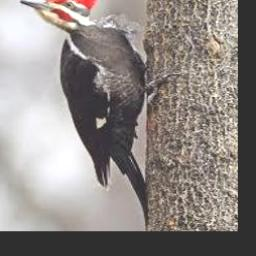Woodpecker: (21, 0, 180, 229)
